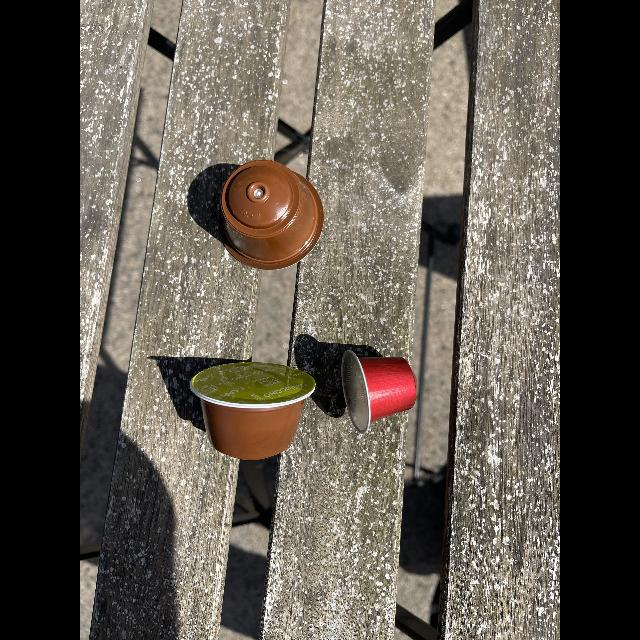intact_capsule: (183, 358, 324, 464), (215, 155, 333, 273), (338, 342, 424, 438)
